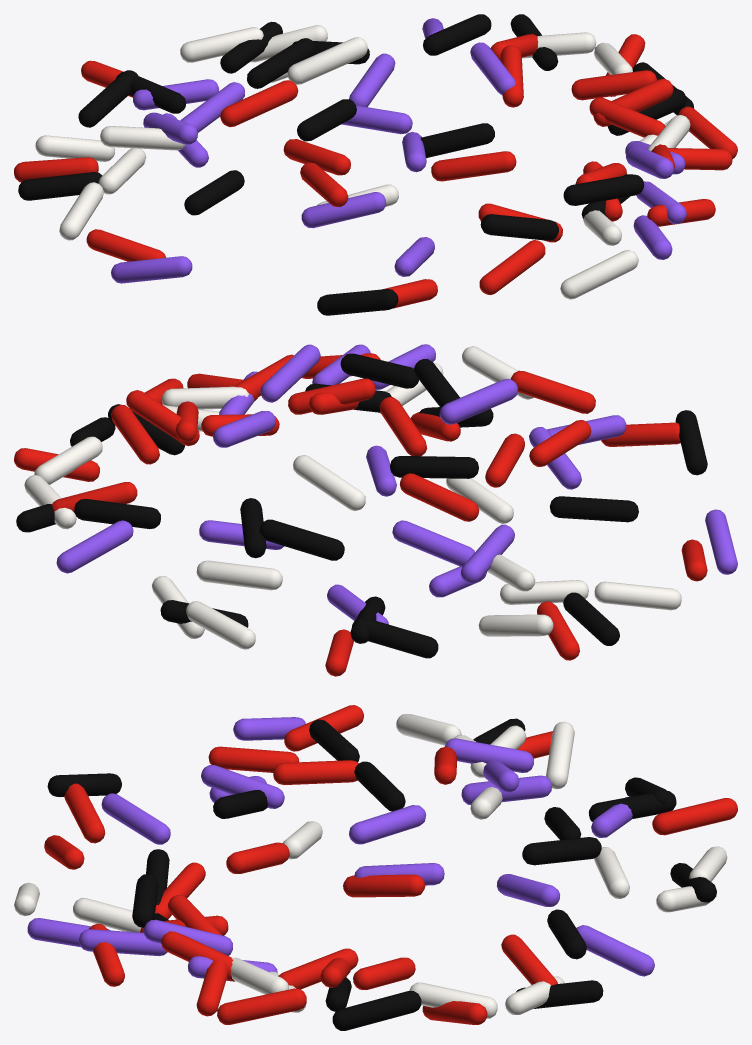
The model's file is streusel.glb.
3 views of the same model, one above another, from view 1: azimuth 30°, elevation 25°; view 2: azimuth 150°, elevation 25°; view 3: azimuth 270°, elevation 25° (orthographic). The views are drawn at different scales.
Visible parts, largest first — view 1: p11, p68, p40, p57, p39, p63, p36, p65, p34, p62, p18, p49 (+49 smaller); view 2: p29, p61, p1, p50, p49, p44, p57, p23, p0, p59, p48, p68 (+53 smaller); view 3: p52, p38, p19, p43, p59, p51, p69, p55, p24, p30, p20, p48 (+52 smaller).
Boxes of the visible parts, x1=… form: p11: x1=431, y1=151, x2=516, y2=181; p68: x1=287, y1=37, x2=367, y2=84; p40: x1=560, y1=250, x2=638, y2=299; p57: x1=220, y1=80, x2=298, y2=127; p39: x1=301, y1=192, x2=386, y2=228; p63: x1=563, y1=174, x2=644, y2=205; p36: x1=111, y1=256, x2=192, y2=283; p65: x1=317, y1=289, x2=398, y2=315; p34: x1=571, y1=70, x2=656, y2=100; p62: x1=480, y1=214, x2=558, y2=240; p18: x1=18, y1=172, x2=102, y2=200; p49: x1=479, y1=240, x2=545, y2=294; p29: x1=549, y1=496, x2=638, y2=522; p61: x1=259, y1=519, x2=344, y2=560; p1: x1=594, y1=581, x2=681, y2=610; p50: x1=196, y1=560, x2=282, y2=590; p49: x1=511, y1=370, x2=595, y2=413; p44: x1=390, y1=456, x2=478, y2=478; p57: x1=399, y1=473, x2=479, y2=521; p23: x1=392, y1=520, x2=474, y2=566; p0: x1=74, y1=498, x2=160, y2=529; p59: x1=56, y1=520, x2=133, y2=573; p48: x1=439, y1=379, x2=518, y2=424; p68: x1=293, y1=455, x2=365, y2=510; p52: x1=217, y1=988, x2=306, y2=1024; p38: x1=332, y1=991, x2=421, y2=1030; p19: x1=652, y1=798, x2=737, y2=835; p43: x1=273, y1=760, x2=358, y2=784; p59: x1=576, y1=925, x2=654, y2=976; p51: x1=343, y1=874, x2=425, y2=897; p69: x1=349, y1=805, x2=426, y2=844; p55: x1=208, y1=746, x2=299, y2=772; p24: x1=522, y1=837, x2=601, y2=865; p30: x1=444, y1=738, x2=533, y2=772; p20: x1=101, y1=793, x2=170, y2=844; p48: x1=201, y1=765, x2=284, y2=808.
Size of the model in its own units: 0.0368 by 0.00593 by 0.0356.
